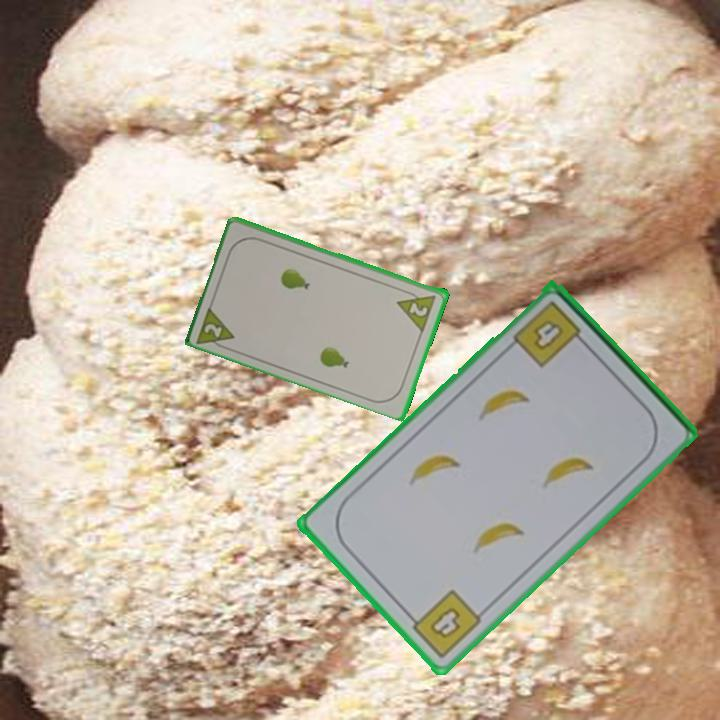2p: (193, 301, 238, 353), (394, 285, 439, 333)
4b: (403, 586, 485, 662), (509, 297, 590, 371)
